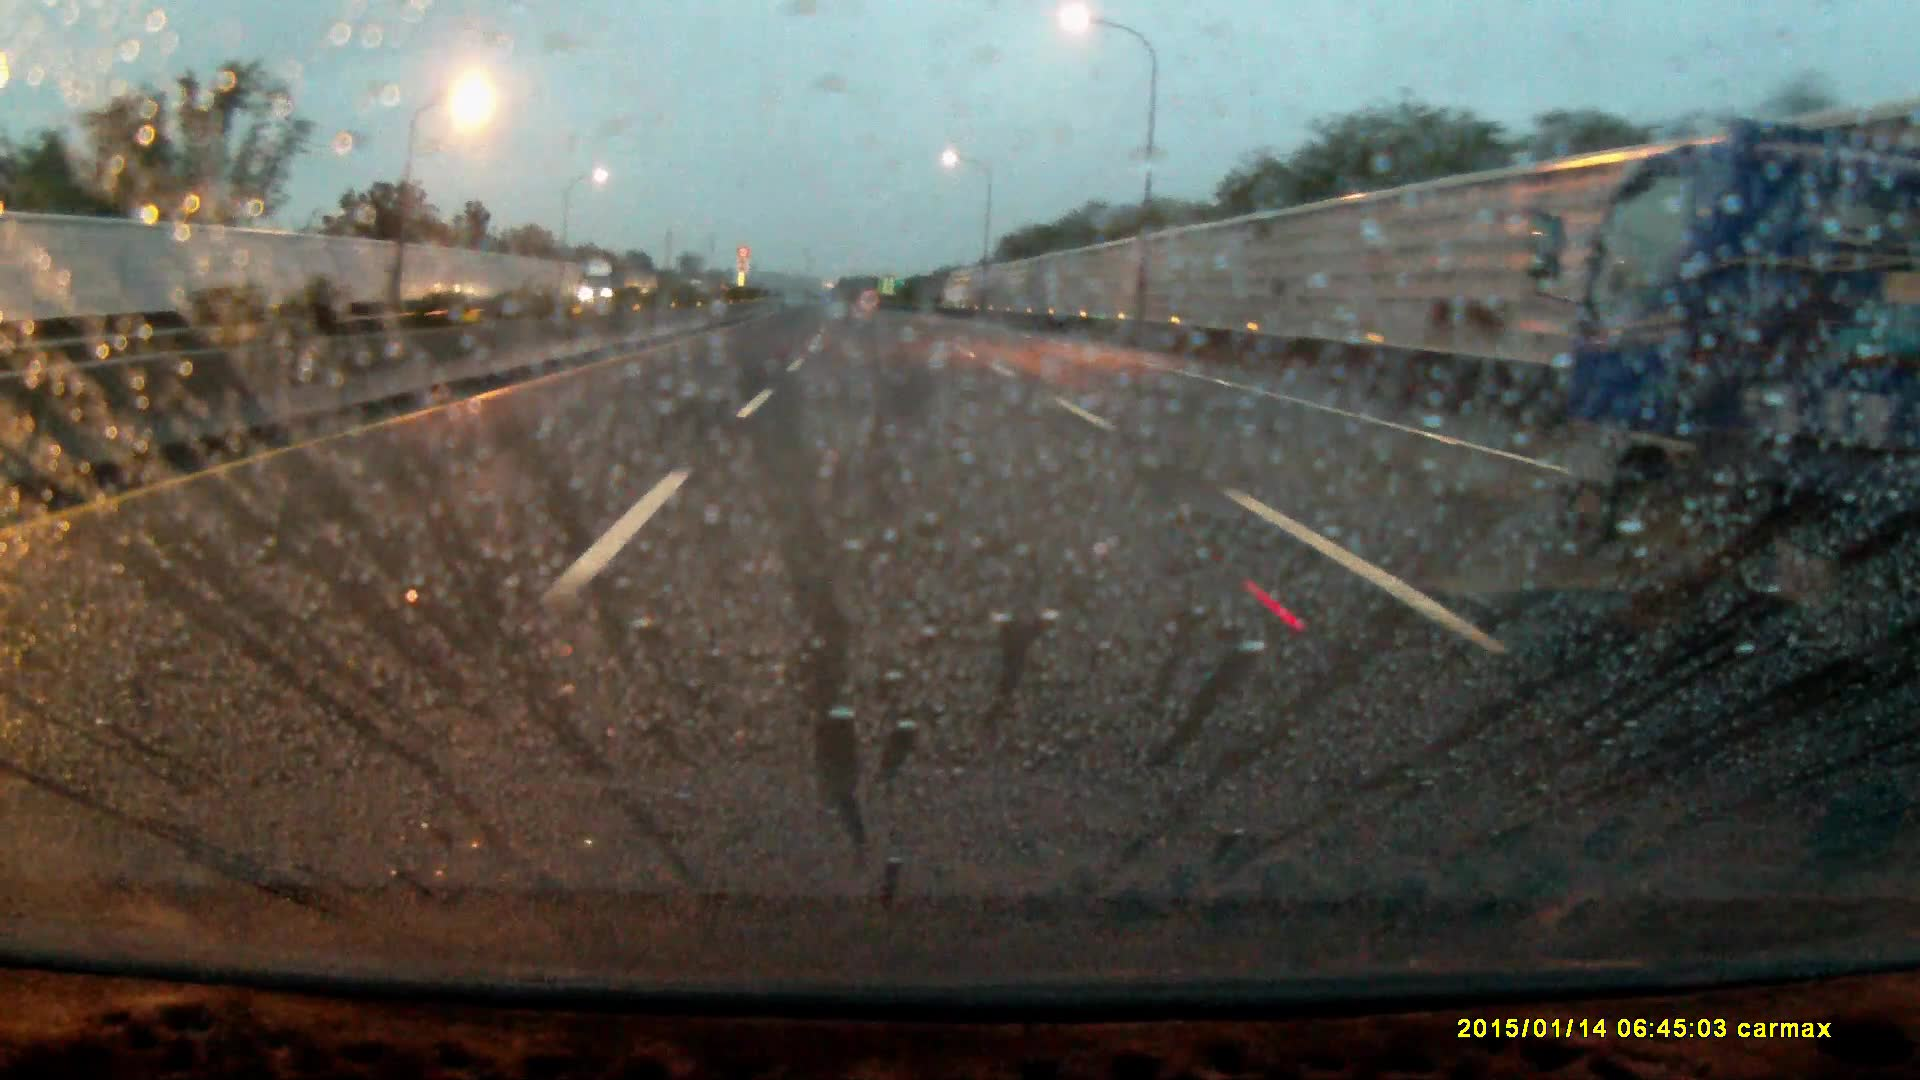vehicle: (1560, 142, 1920, 607), (582, 265, 626, 310)
